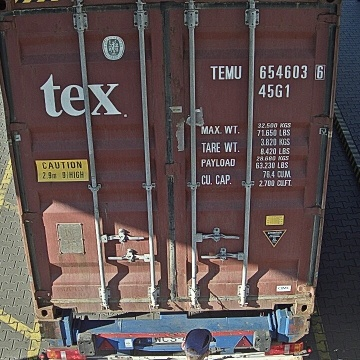serial_id: (210, 65, 325, 79)
